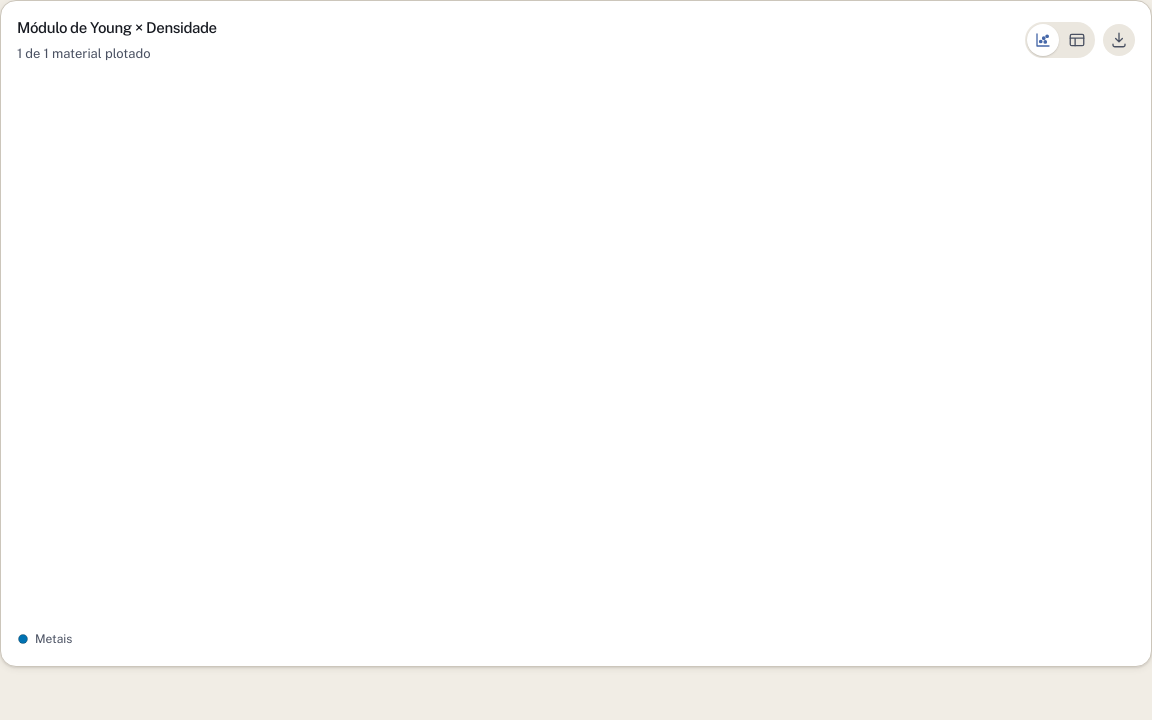
Test: AshbyMap — seleção interativa e cursor › permite customizar o rótulo da coluna de registro na tabela via recordLabel
Click the button named "Tabela".
click(1077, 40)  # box [1061,24,1093,56]
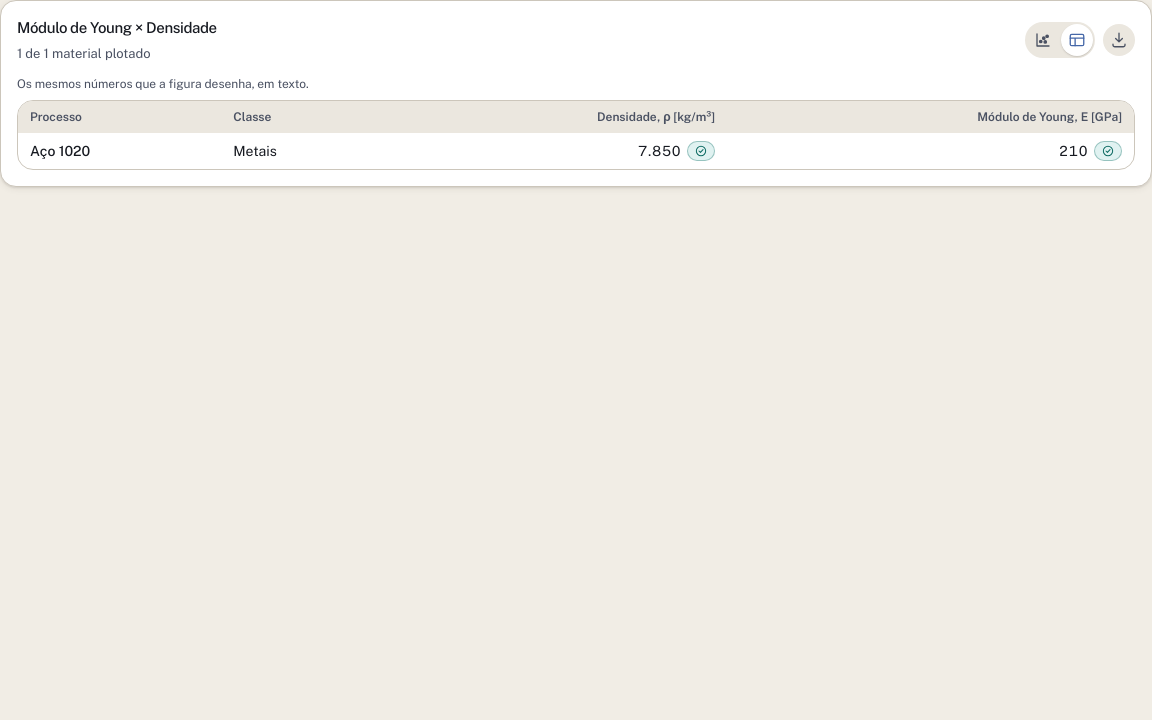
Expected: the column heading "Processo" is shown, [18,100,221,132]
